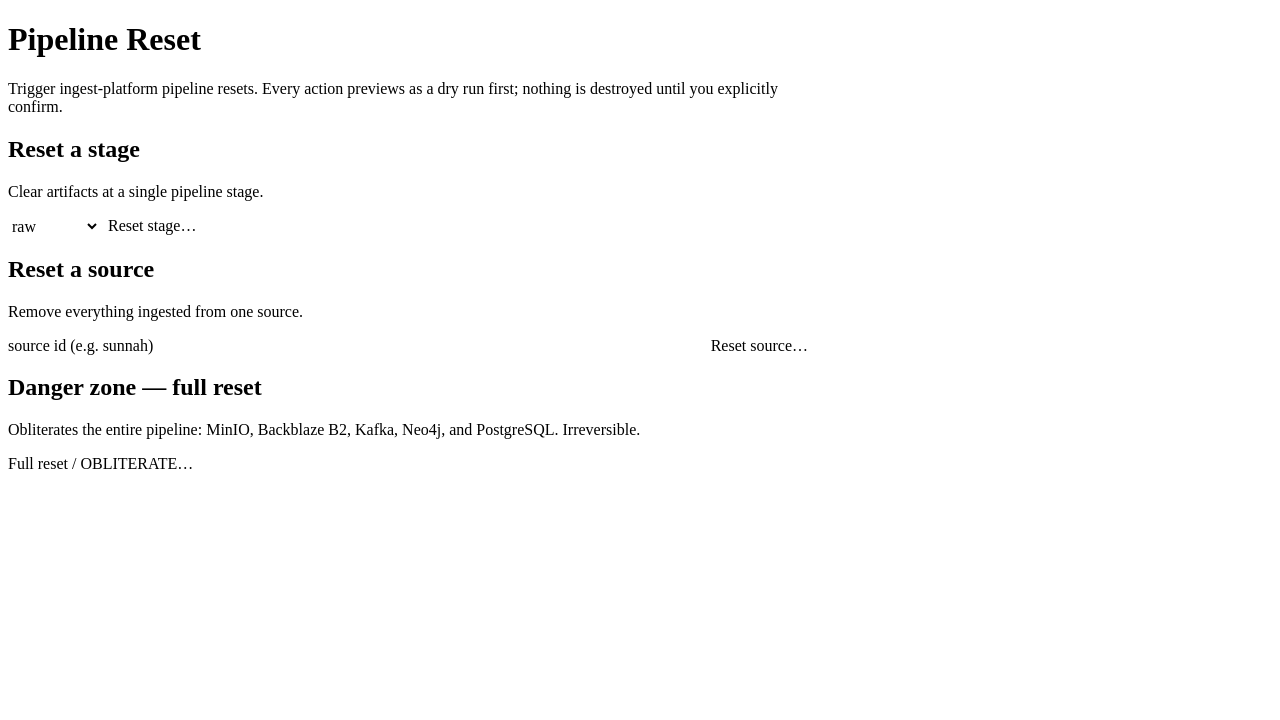
Scenario: ResetPage › surfaces a distinct error message when the reset endpoint fails
Click the button "Reset stage…" at (152, 226), box [108, 217, 196, 235]
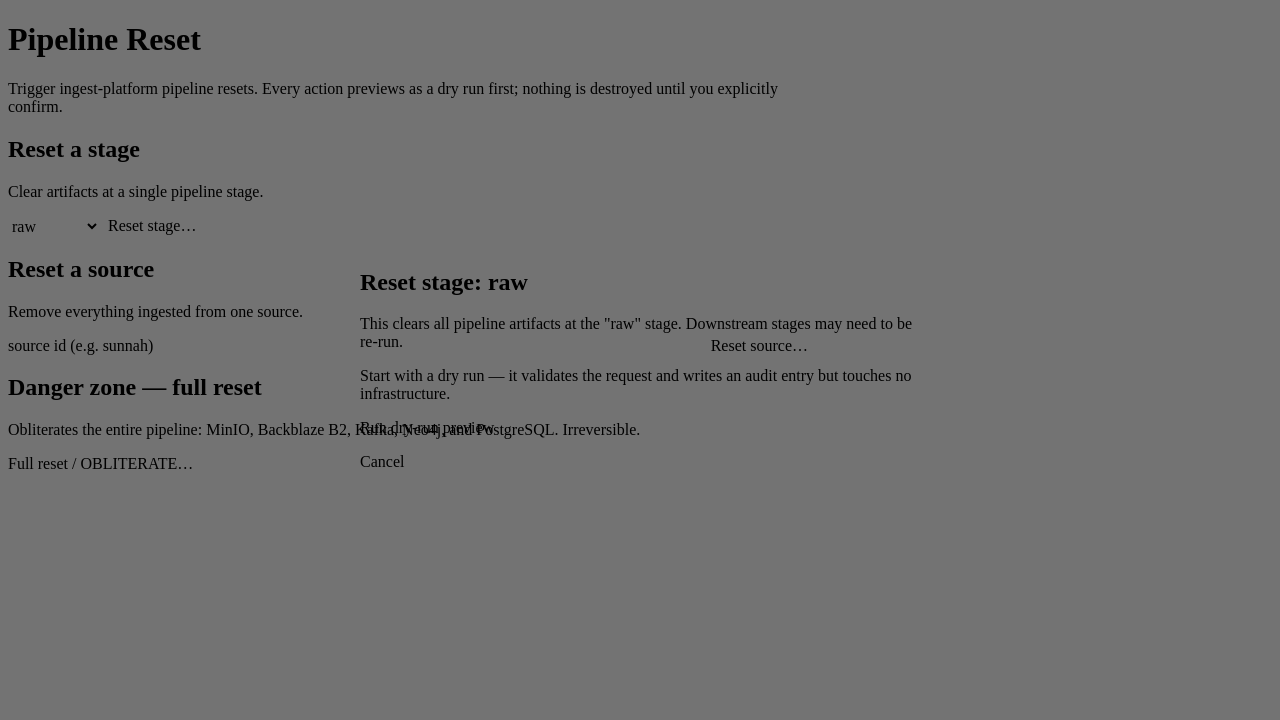
Click the button "Run dry-run preview" at (427, 428), box [360, 419, 494, 437]
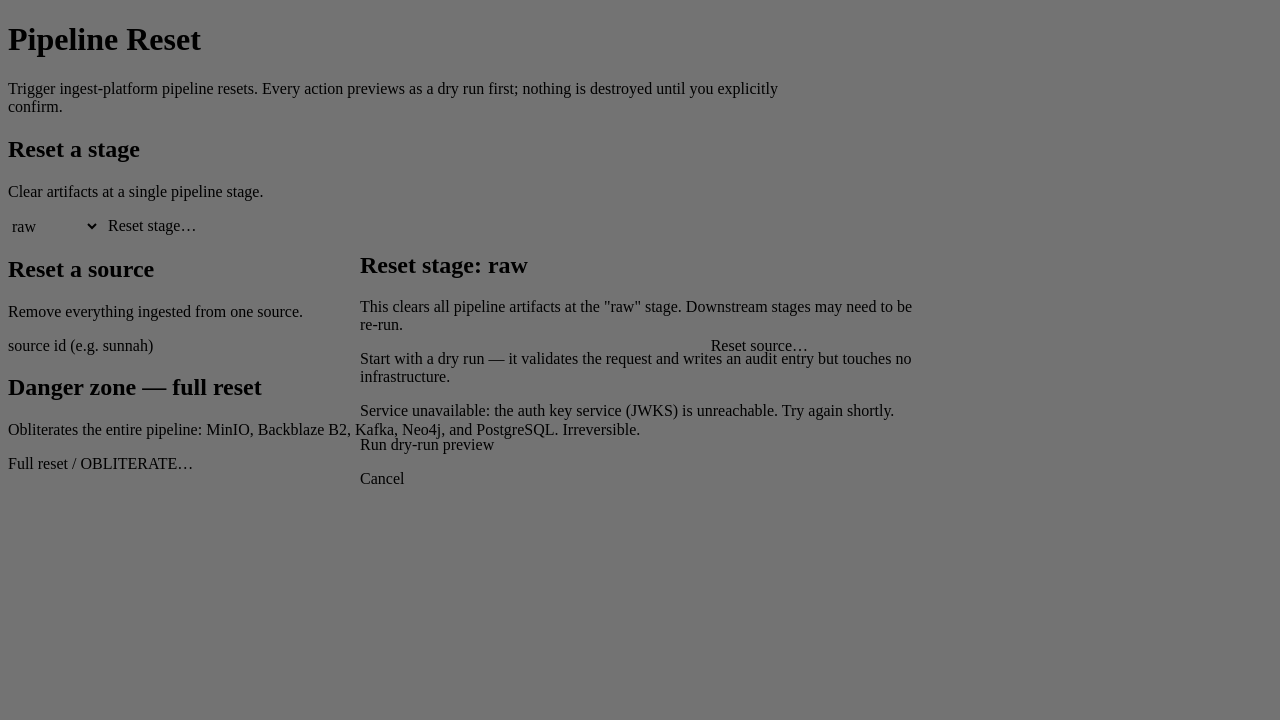
Result: the message shows "JWKS) is unreachable" at [360, 402, 894, 419]
